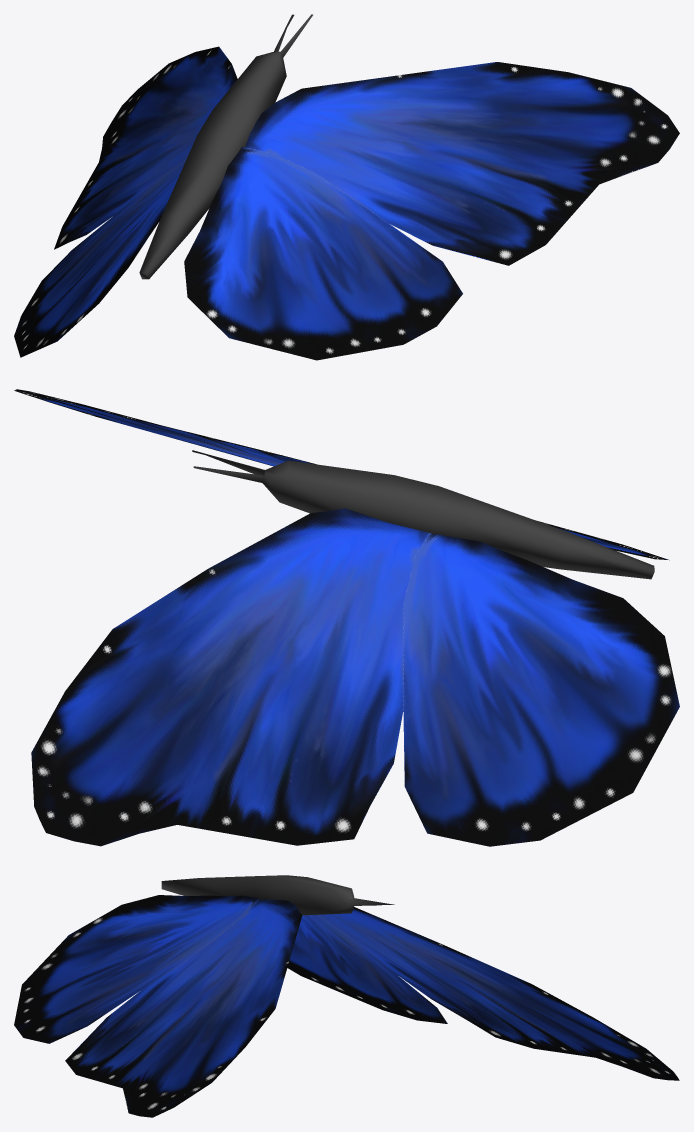
File: bbfly2.glb
3 renders of one model, top to bottom at view 1: azimuth 30°, elevation 25°; view 2: azimuth 150°, elevation 25°; view 3: azimuth 270°, elevation 25°, orthographic. The views are drawn at different scales.
Parts seen in each view (by area): view 1: Plane.043, Plane.042, Cube.008; view 2: Plane.042, Cube.008, Plane.043; view 3: Plane.043, Plane.042, Cube.008.
Boxes of the visible parts, bbox=[...] form: Plane.043: bbox=[184, 62, 679, 360]; Plane.042: bbox=[14, 46, 237, 357]; Cube.008: bbox=[139, 14, 312, 279]; Plane.042: bbox=[31, 508, 679, 846]; Cube.008: bbox=[192, 450, 654, 579]; Plane.043: bbox=[14, 389, 669, 560]; Plane.043: bbox=[14, 895, 302, 1117]; Plane.042: bbox=[287, 907, 679, 1080]; Cube.008: bbox=[161, 875, 394, 915].
Bounding box in the file's own units: 1.87 × 0.7735 × 1.91.
Materials: 2 (1 with a texture image).
